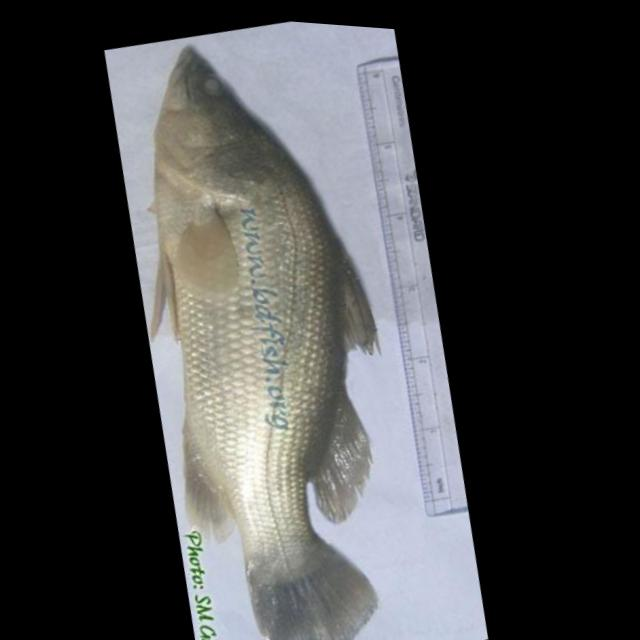Seabass: (63, 8, 472, 640)
